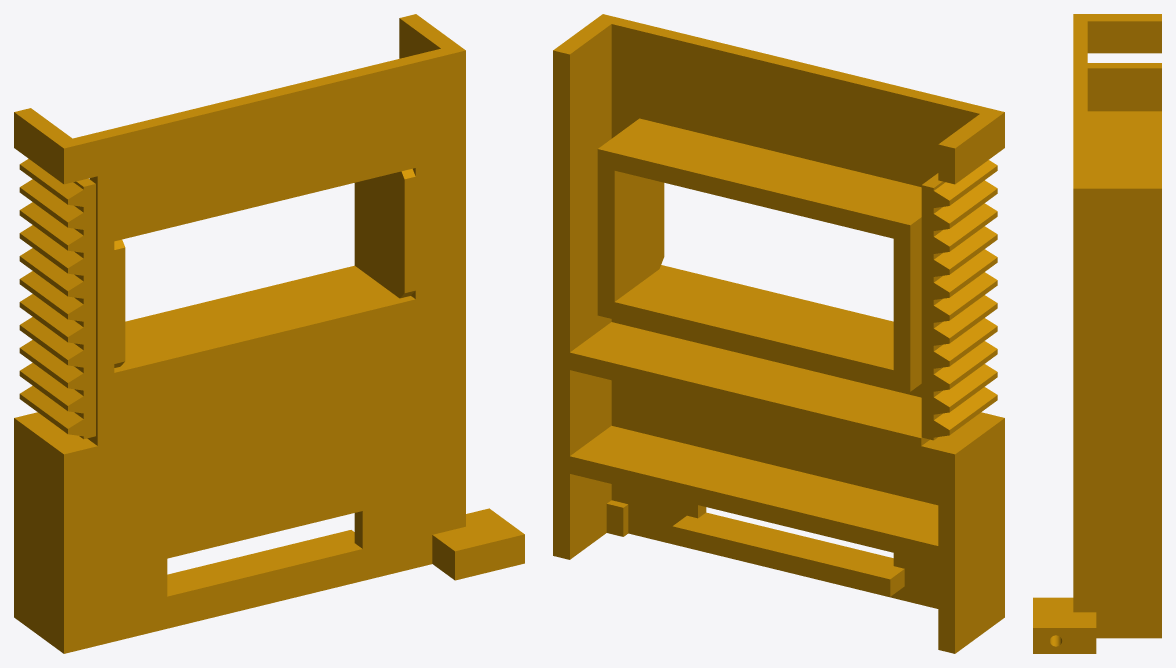
File: ali_corredera.glb
3 renders of one model, left to right at view 1: azimuth 30°, elevation 25°; view 2: azimuth 150°, elevation 25°; view 3: azimuth 270°, elevation 25°, orthographic. The views are drawn at different scales.
Visible parts, largest first — view 1: world; view 2: world; view 3: world.
Boxes of the visible parts, x1,y1,x2,y2 form: world: [14, 14, 524, 653]; world: [553, 14, 1004, 653]; world: [1033, 14, 1161, 653].
Bounding box in the file's own units: 157 × 173 × 44.9.
